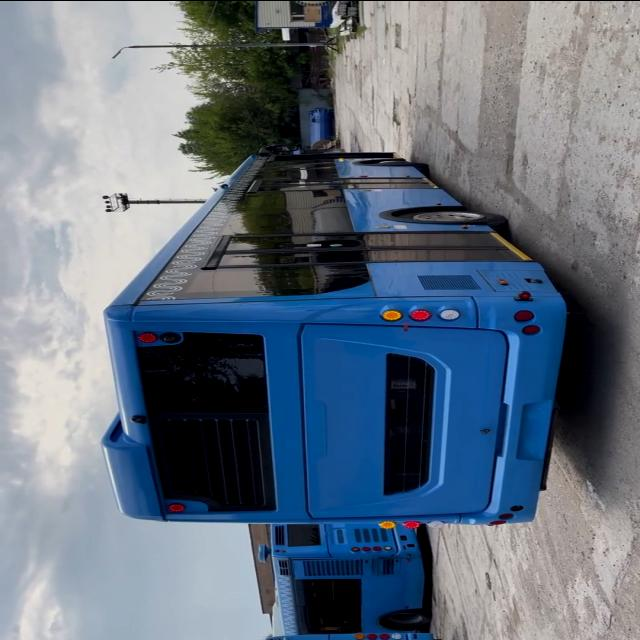bus: (96, 143, 578, 529)
